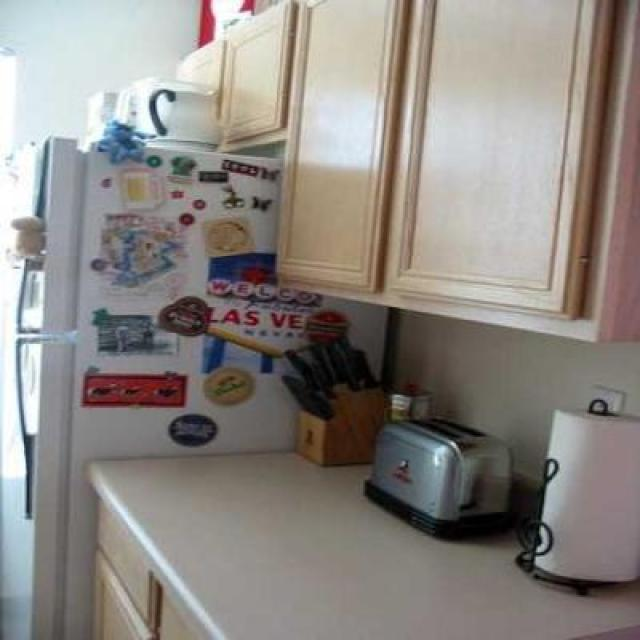refrigerator: (0, 136, 98, 640)
